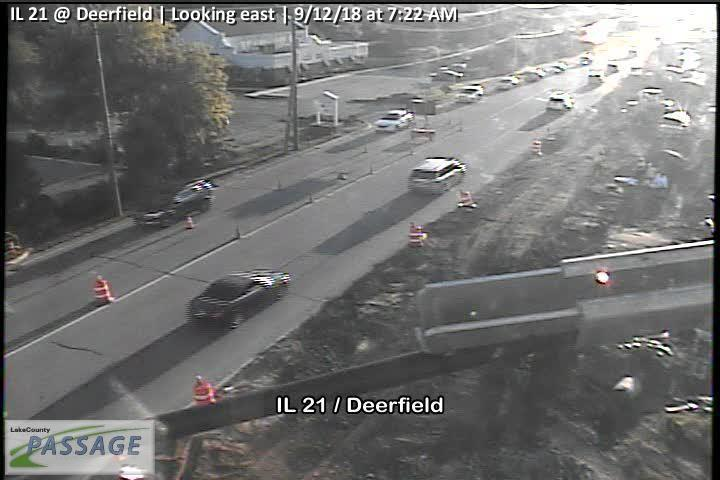SUV: (408, 157, 466, 196)
Sedan: (186, 268, 293, 328), (137, 178, 214, 225), (373, 108, 413, 133), (457, 83, 482, 104), (545, 94, 572, 112)
